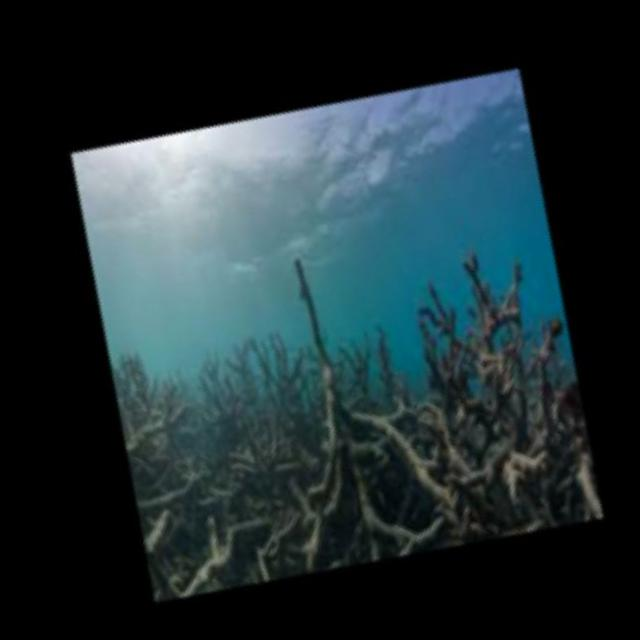Dead Coral: (3, 104, 640, 640)
